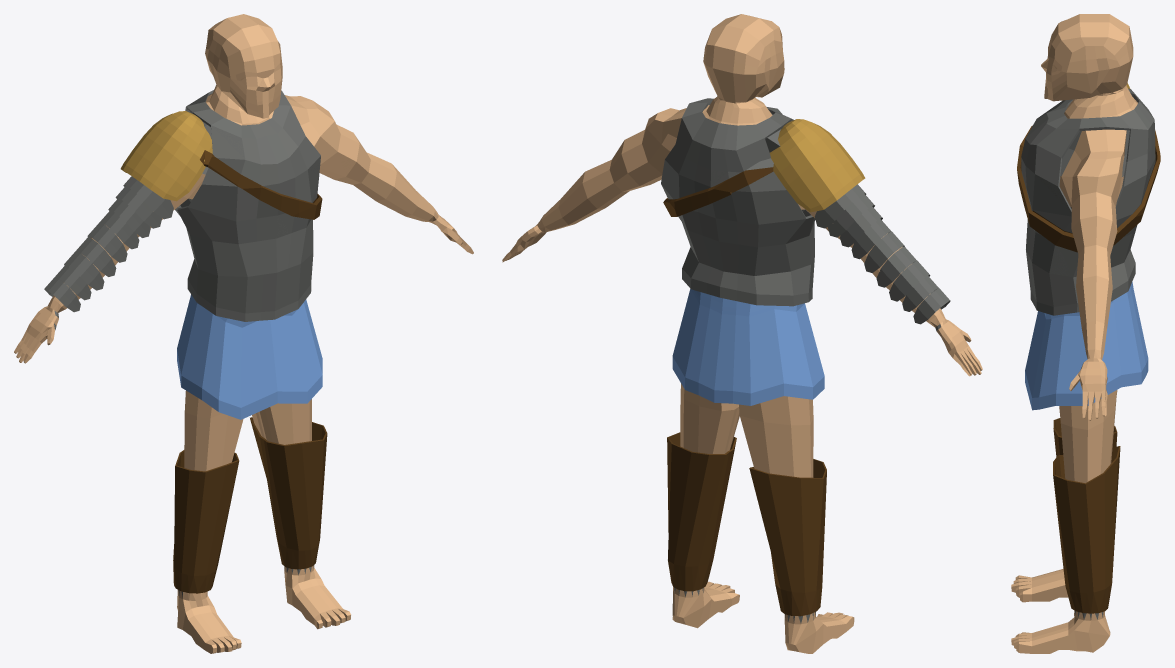
Rendered from Boss_Damnati.fbx.
3 renders of one model, left to right at view 1: azimuth 30°, elevation 25°; view 2: azimuth 150°, elevation 25°; view 3: azimuth 270°, elevation 25°, orthographic. The views are drawn at different scales.
Parts seen in each view (by area): view 1: Cylinder; view 2: Cylinder; view 3: Cylinder.
Part boxes in pixels (left/top/right/bottom): Cylinder: left=14, top=14, right=473, bottom=653; Cylinder: left=502, top=14, right=982, bottom=653; Cylinder: left=1011, top=14, right=1160, bottom=653.
Bounding box in the file's own units: 202 × 252 × 56.55.
